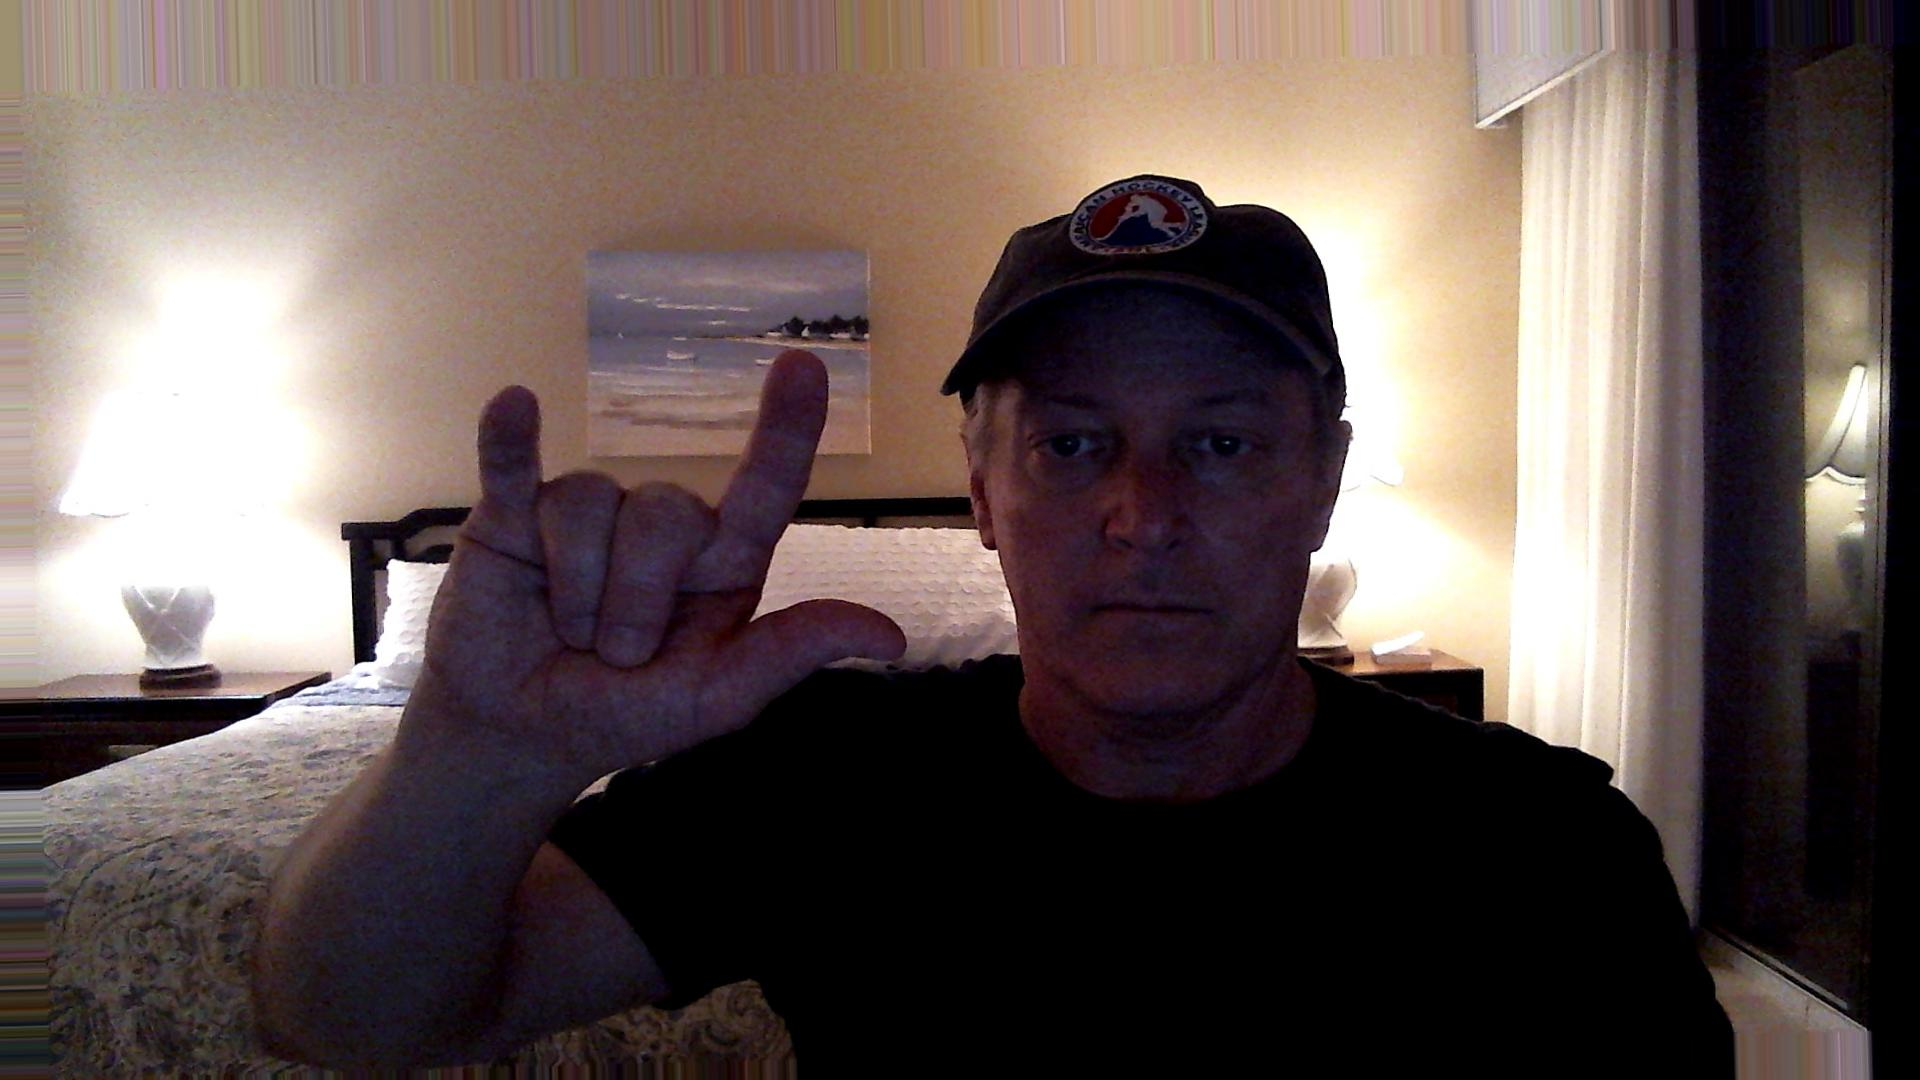I Love You: (411, 332, 945, 771)
